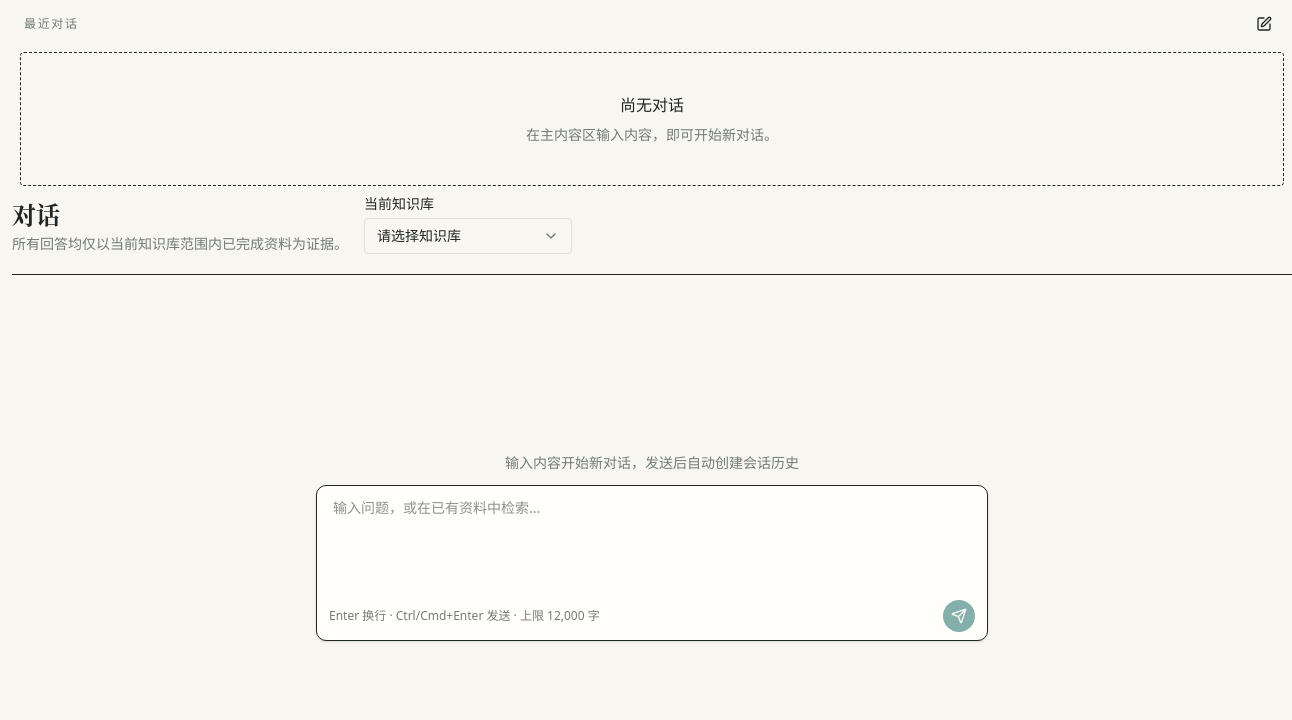
会话 mutation 的可恢复错误 › 新建会话后立即刷新当前知识库的侧栏历史
Check: the text "尚无对话" is shown, box [620, 93, 684, 117]
Type "创建后应出现" into the text box labelled "输入问题". click: (652,542)
box: [325, 494, 979, 590]
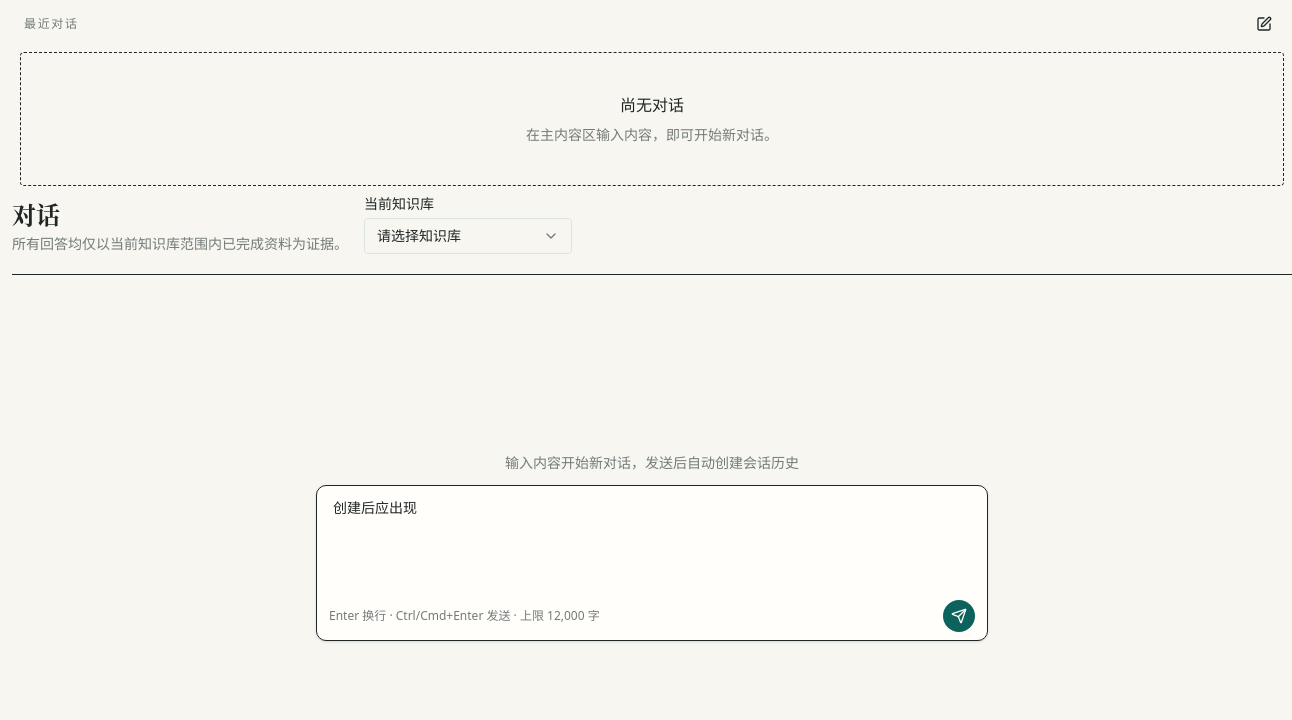
Click the button named "发送". click: (959,616)
box: [943, 600, 975, 632]
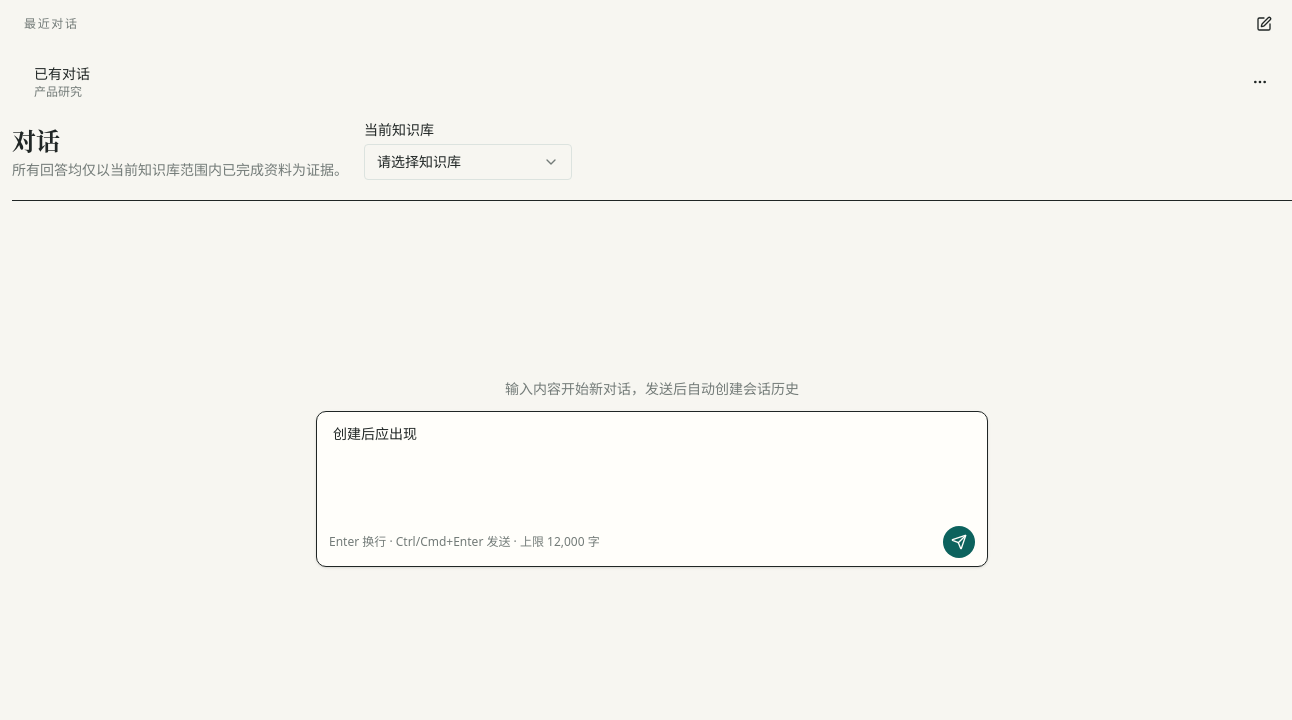
Check: the text "已有对话" is shown, box [34, 64, 90, 84]
